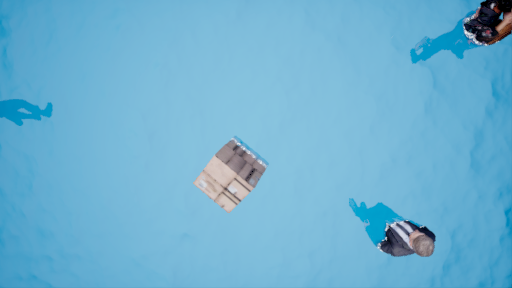person: (405, 2, 512, 71), (354, 198, 439, 260)
